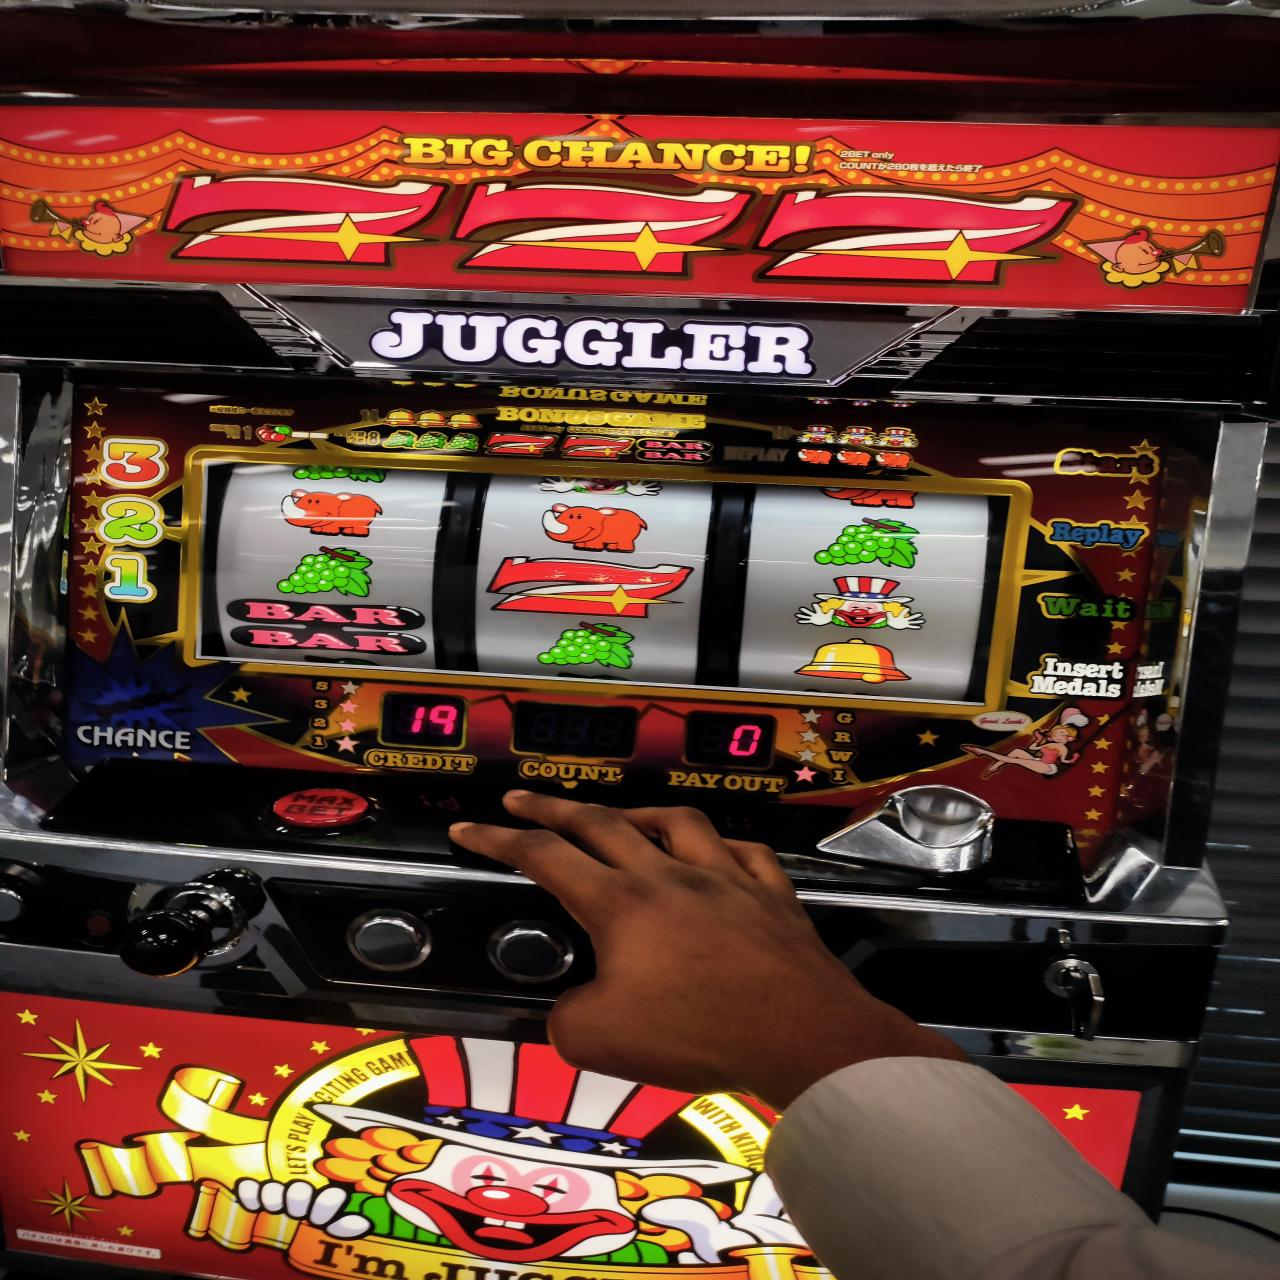7: (489, 558, 688, 620)
8: (539, 503, 658, 557), (278, 489, 383, 538)
Display: (181, 452, 1009, 708)
bar: (232, 601, 429, 658)
bell: (795, 636, 911, 686)
clown: (792, 574, 926, 632)
grape: (812, 517, 924, 571), (274, 545, 377, 598), (537, 621, 638, 672)
